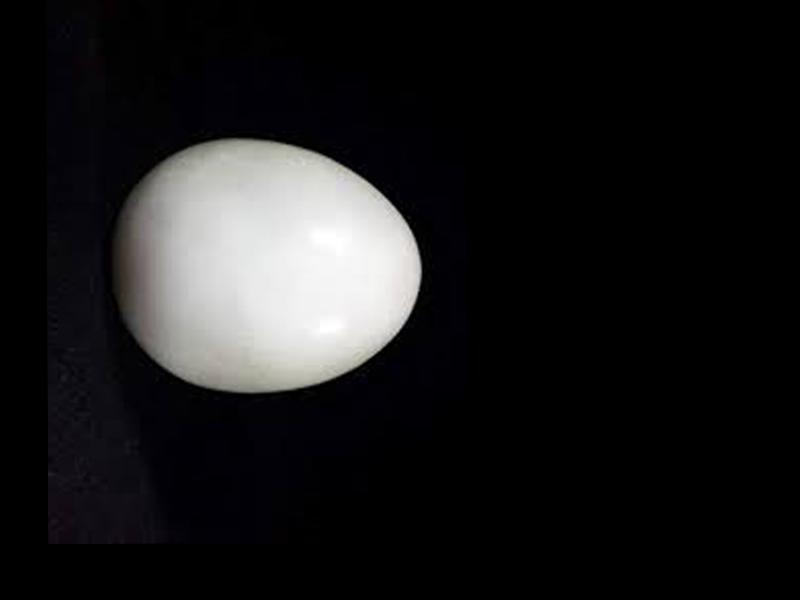Eggs: (107, 141, 420, 391)
